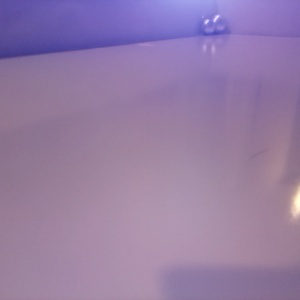alive_ball: (210, 14, 227, 34), (201, 18, 215, 35)
